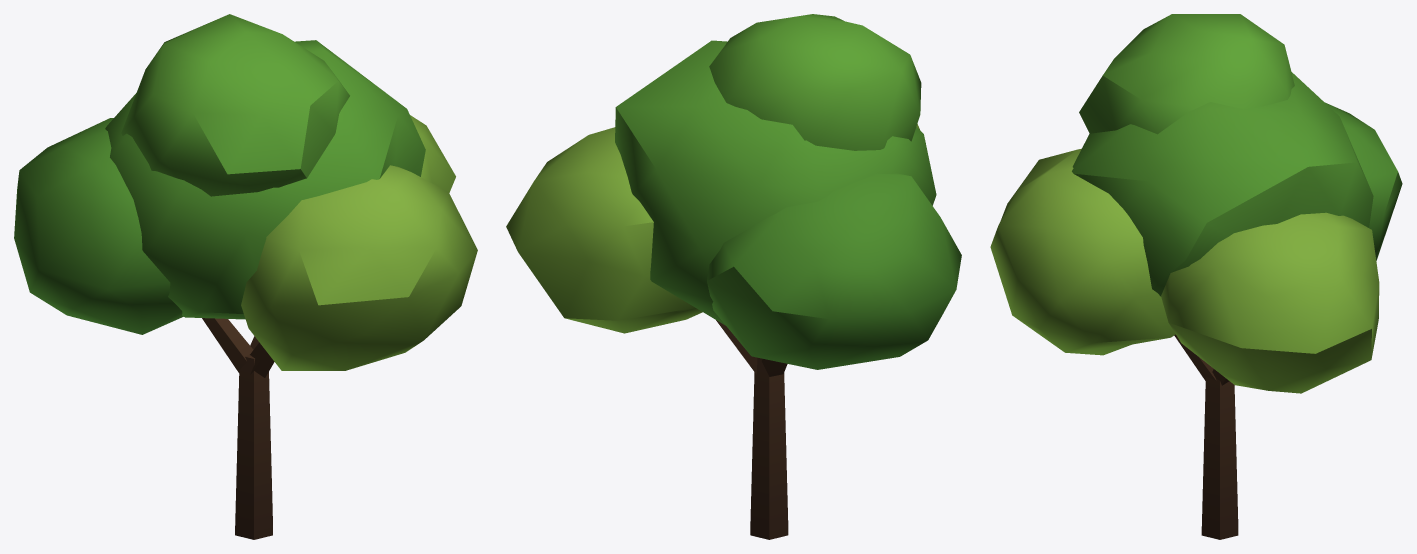
The model's file is FruitTree.fbx.
3 renders of one model, left to right at view 1: azimuth 30°, elevation 25°; view 2: azimuth 150°, elevation 25°; view 3: azimuth 270°, elevation 25°, orthographic. The views are drawn at different scales.
Visible parts, largest first — view 1: FruitTree_LOD0; view 2: FruitTree_LOD0; view 3: FruitTree_LOD0.
Part boxes in pixels (<box>): FruitTree_LOD0: <box>14,14,477,539</box>; FruitTree_LOD0: <box>506,14,961,539</box>; FruitTree_LOD0: <box>990,14,1402,539</box>.
Size of what is drawn, in the model's own units: 5.35 by 6.3 by 4.78.
Materials: 1 (1 with a texture image).
